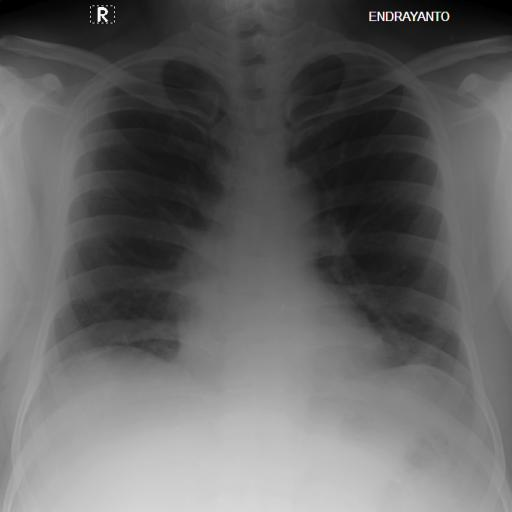normal: (10, 20, 498, 420)
